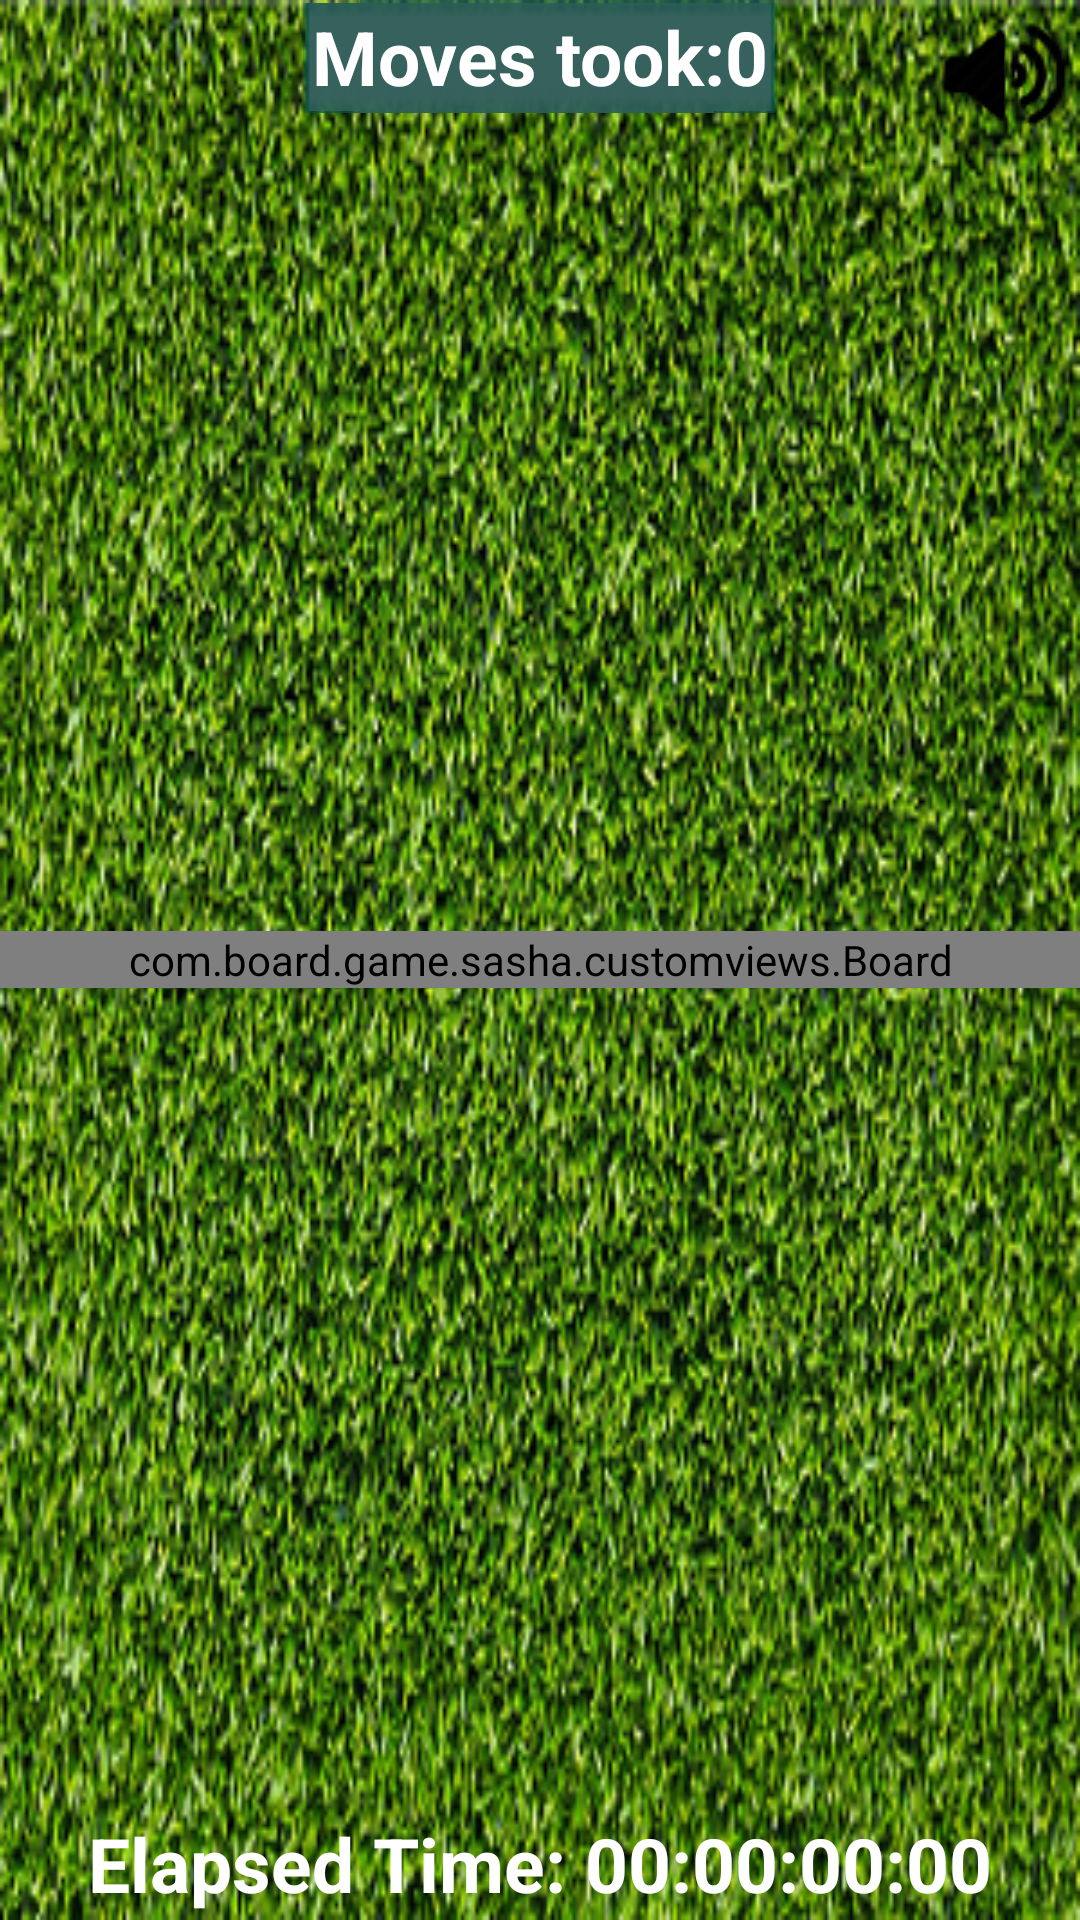

Icon click points for this 1080*1920 phone screenshot, format point (x, y):
sound on: point (1005, 75)
